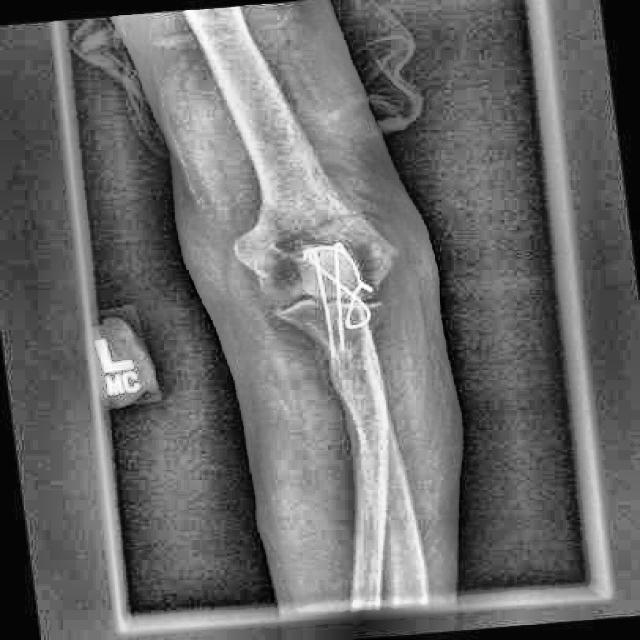elbow positive: (288, 187, 400, 256)
